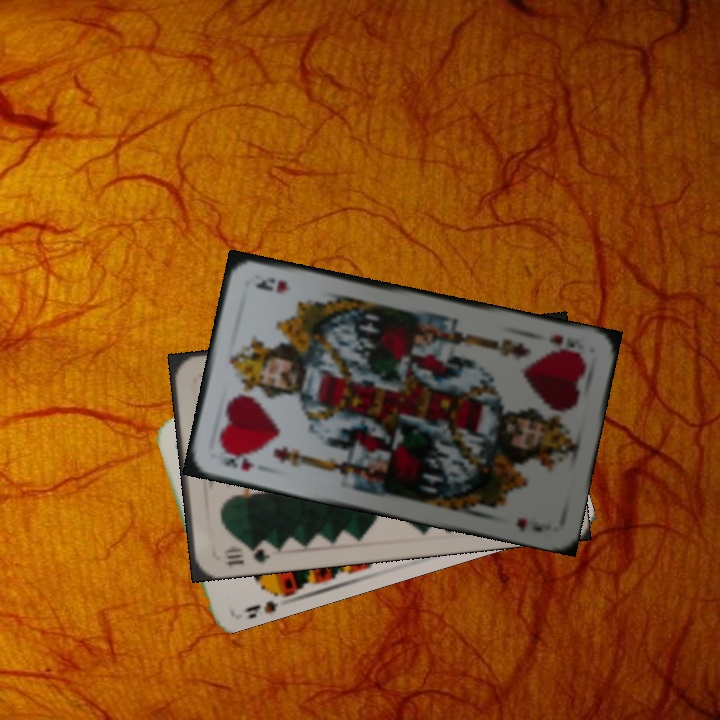G10: (220, 539, 272, 570)
HK: (216, 446, 257, 474), (545, 330, 584, 358)
S9: (238, 582, 290, 620)
